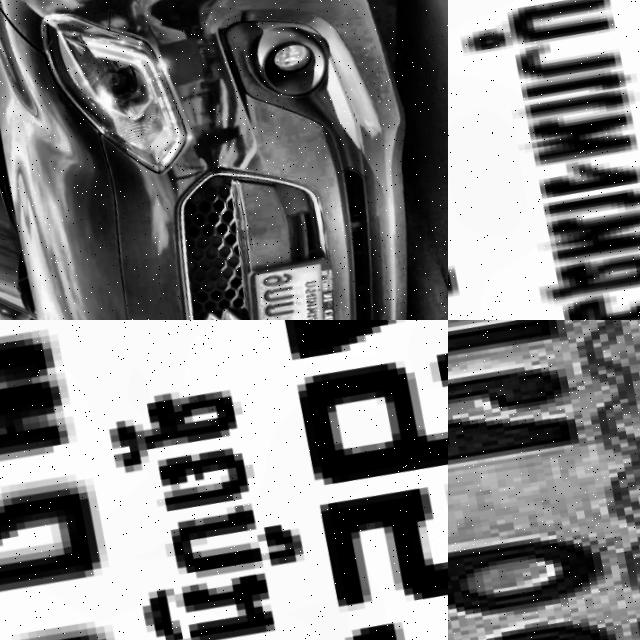license-plate: (0, 320, 448, 640), (448, 0, 640, 320), (448, 320, 640, 640), (236, 243, 361, 320)
